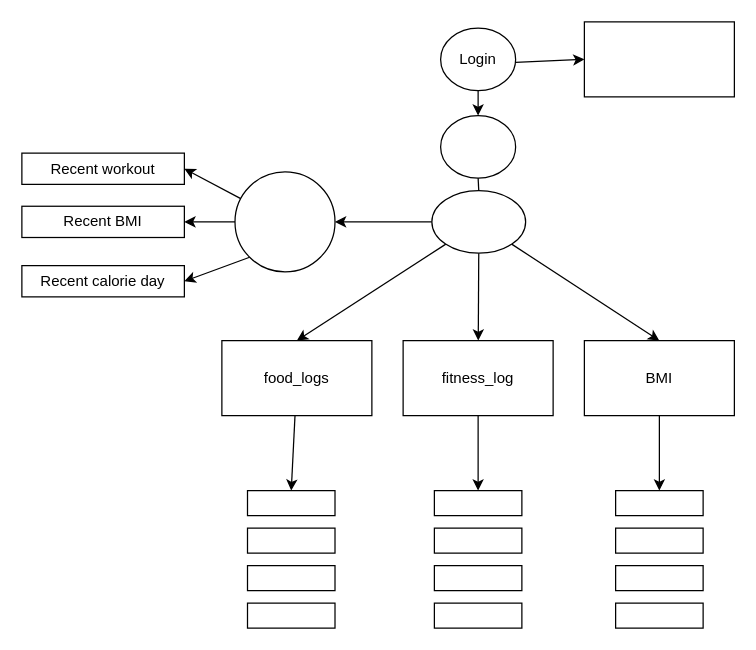
The diagram is 756 pixels wide and 650 high, and some of its shapes have lost their labels. Here are the shapes that lost their labels. From the top down, the centre of each, then its label:
(658,59): username, pswd
(477,146): user
(284,221): Display
(478,221): profile
